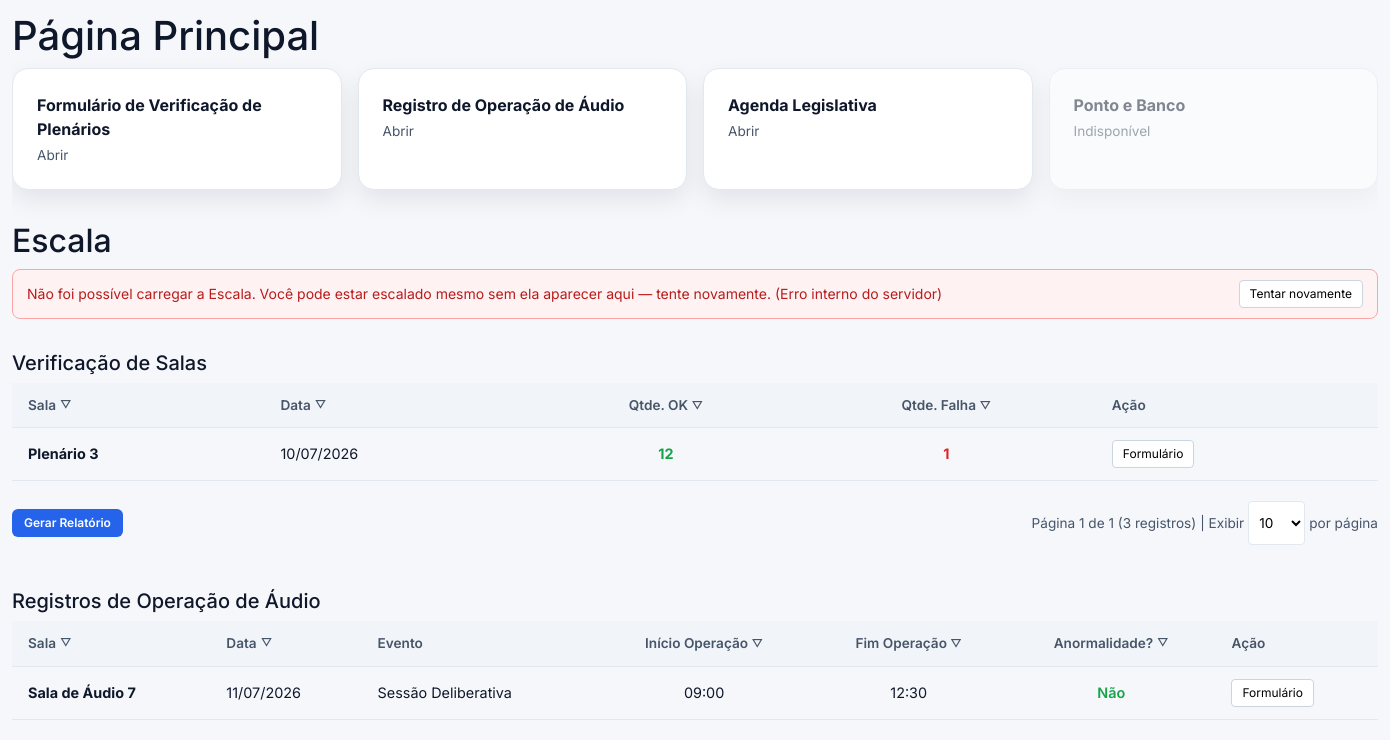
Test case: HomeComponent (canal de erro das listagens) › seção Escala › retry com sucesso: a caixa some e as escalas aparecem
The width and height of the screenshot is (1390, 740).
Click the button "Tentar novamente".
click(1301, 294)  # box 1239,280 -> 1363,308
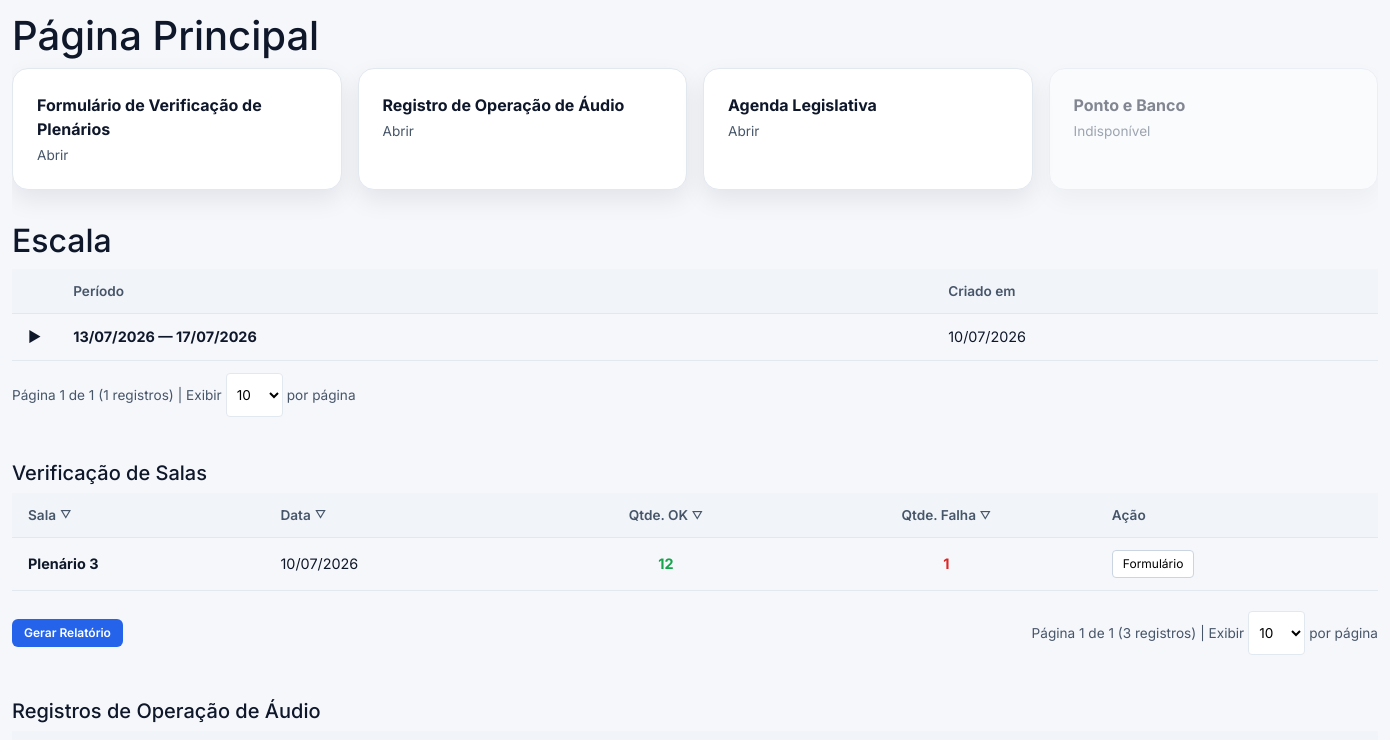
Check: the table with class "data-table" that starts with "Período" is shown, box 12,269 -> 1378,361
